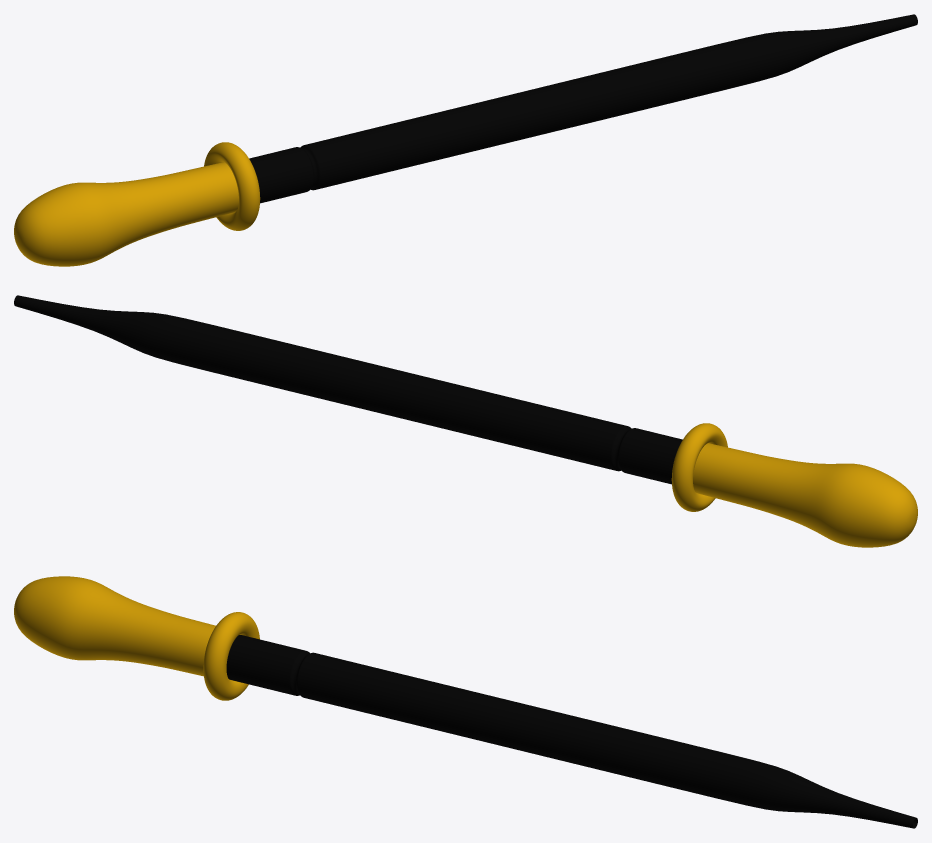
The model's file is pipette.fbx.
The picture shows the model from 3 angles, top to bottom: view 1: azimuth 30°, elevation 25°; view 2: azimuth 150°, elevation 25°; view 3: azimuth 330°, elevation 25°; orthographic projection.
Parts seen in each view (by area): view 1: Pasteur Pipette; view 2: Pasteur Pipette; view 3: Pasteur Pipette.
Boxes of the visible parts, x1,y1,x2,y2 form: Pasteur Pipette: (14,14,917,266); Pasteur Pipette: (14,295,917,547); Pasteur Pipette: (14,576,917,828).
Size of the model in its own units: 135 by 11.76 by 11.76.
